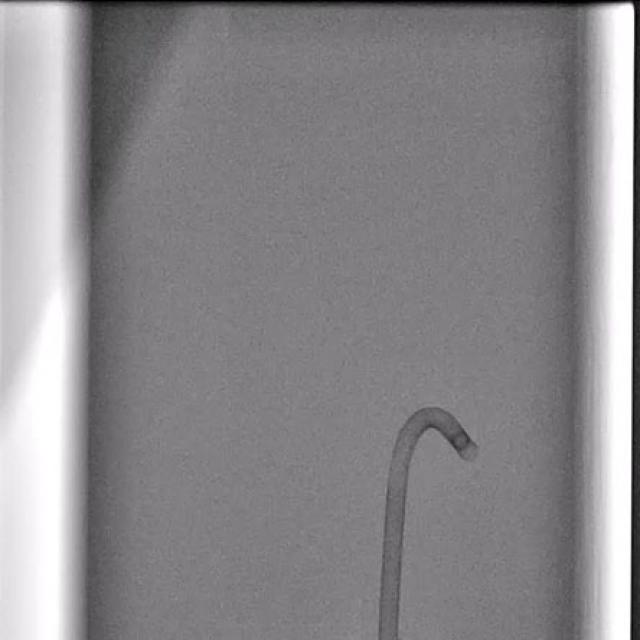bend: (384, 469, 412, 490)
entry: (378, 631, 398, 640)
marker: (448, 431, 472, 452)
tip: (465, 448, 480, 464)
